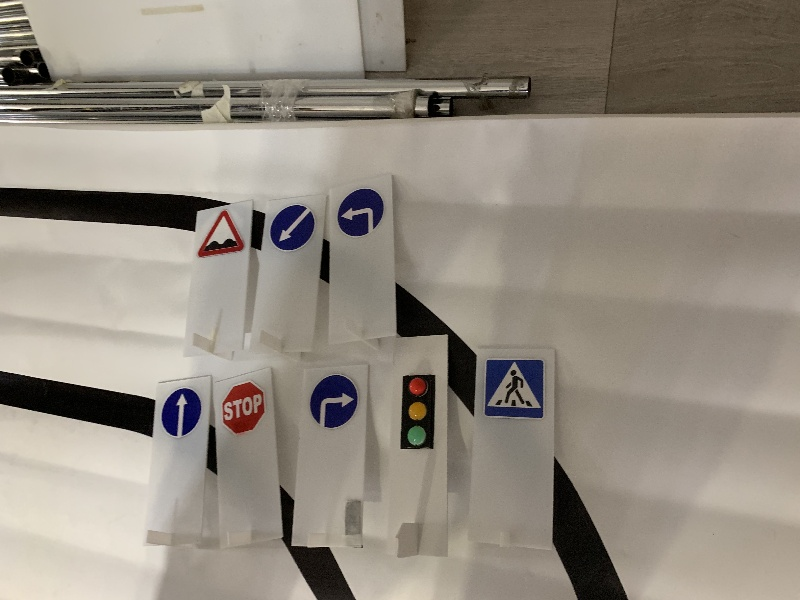Left: (337, 189, 384, 235)
Nerov: (193, 208, 245, 255)
Right: (308, 373, 360, 425)
Stop: (223, 380, 265, 435)
forw: (159, 386, 201, 437)
pesh: (481, 356, 550, 422)
prep: (269, 205, 316, 251)
